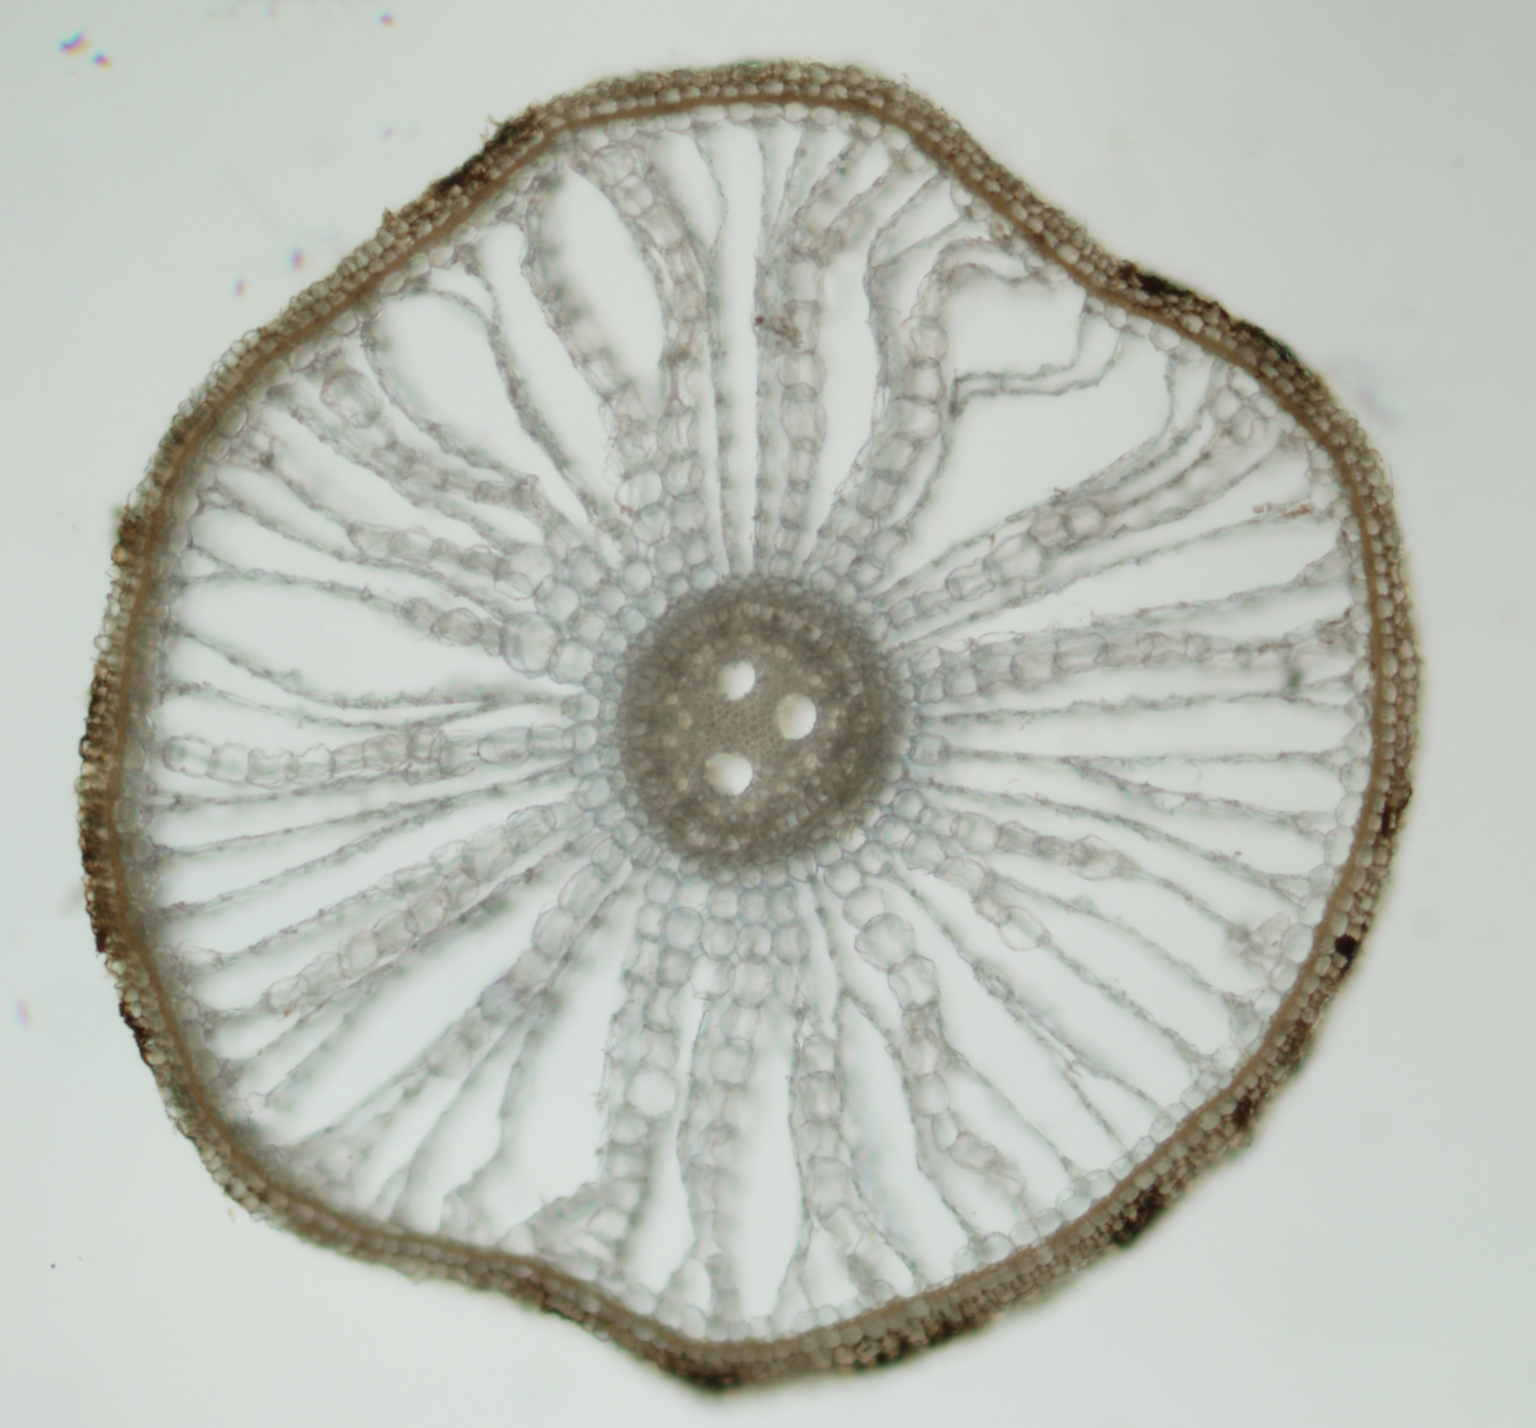lm: (706, 752, 753, 797), (775, 691, 817, 741), (716, 659, 757, 701)
